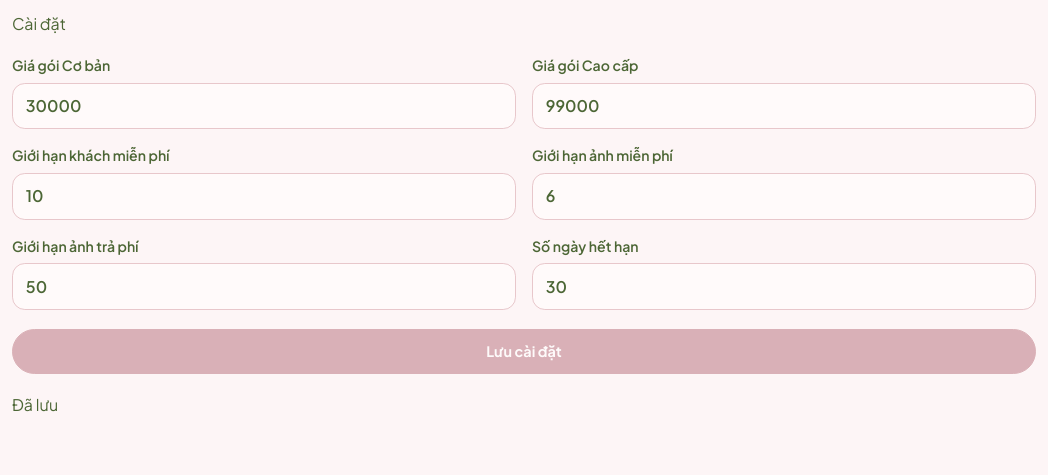
Test: admin orders and settings › rejects a premium price below basic
Replace the text in the number field labelled "Giá gói Cao cấp" with "1000": (784, 106) top-left (532, 83), bottom-right (1036, 130)
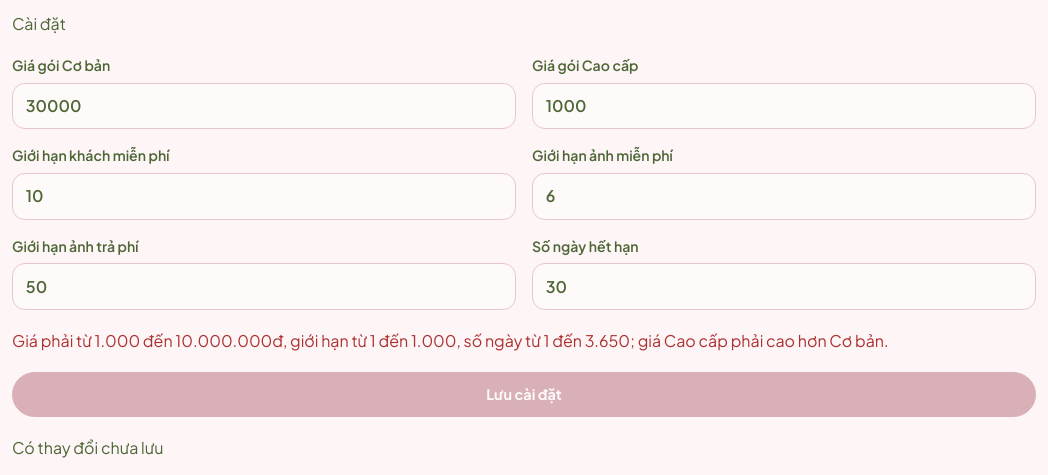
expect the button "Lưu cài đặt" is disabled: met, box top-left (12, 372), bottom-right (1036, 417)
expect the 1st message shows "giá Cao cấp phải cao hơn Cơ bản": met, box top-left (12, 330), bottom-right (889, 351)
